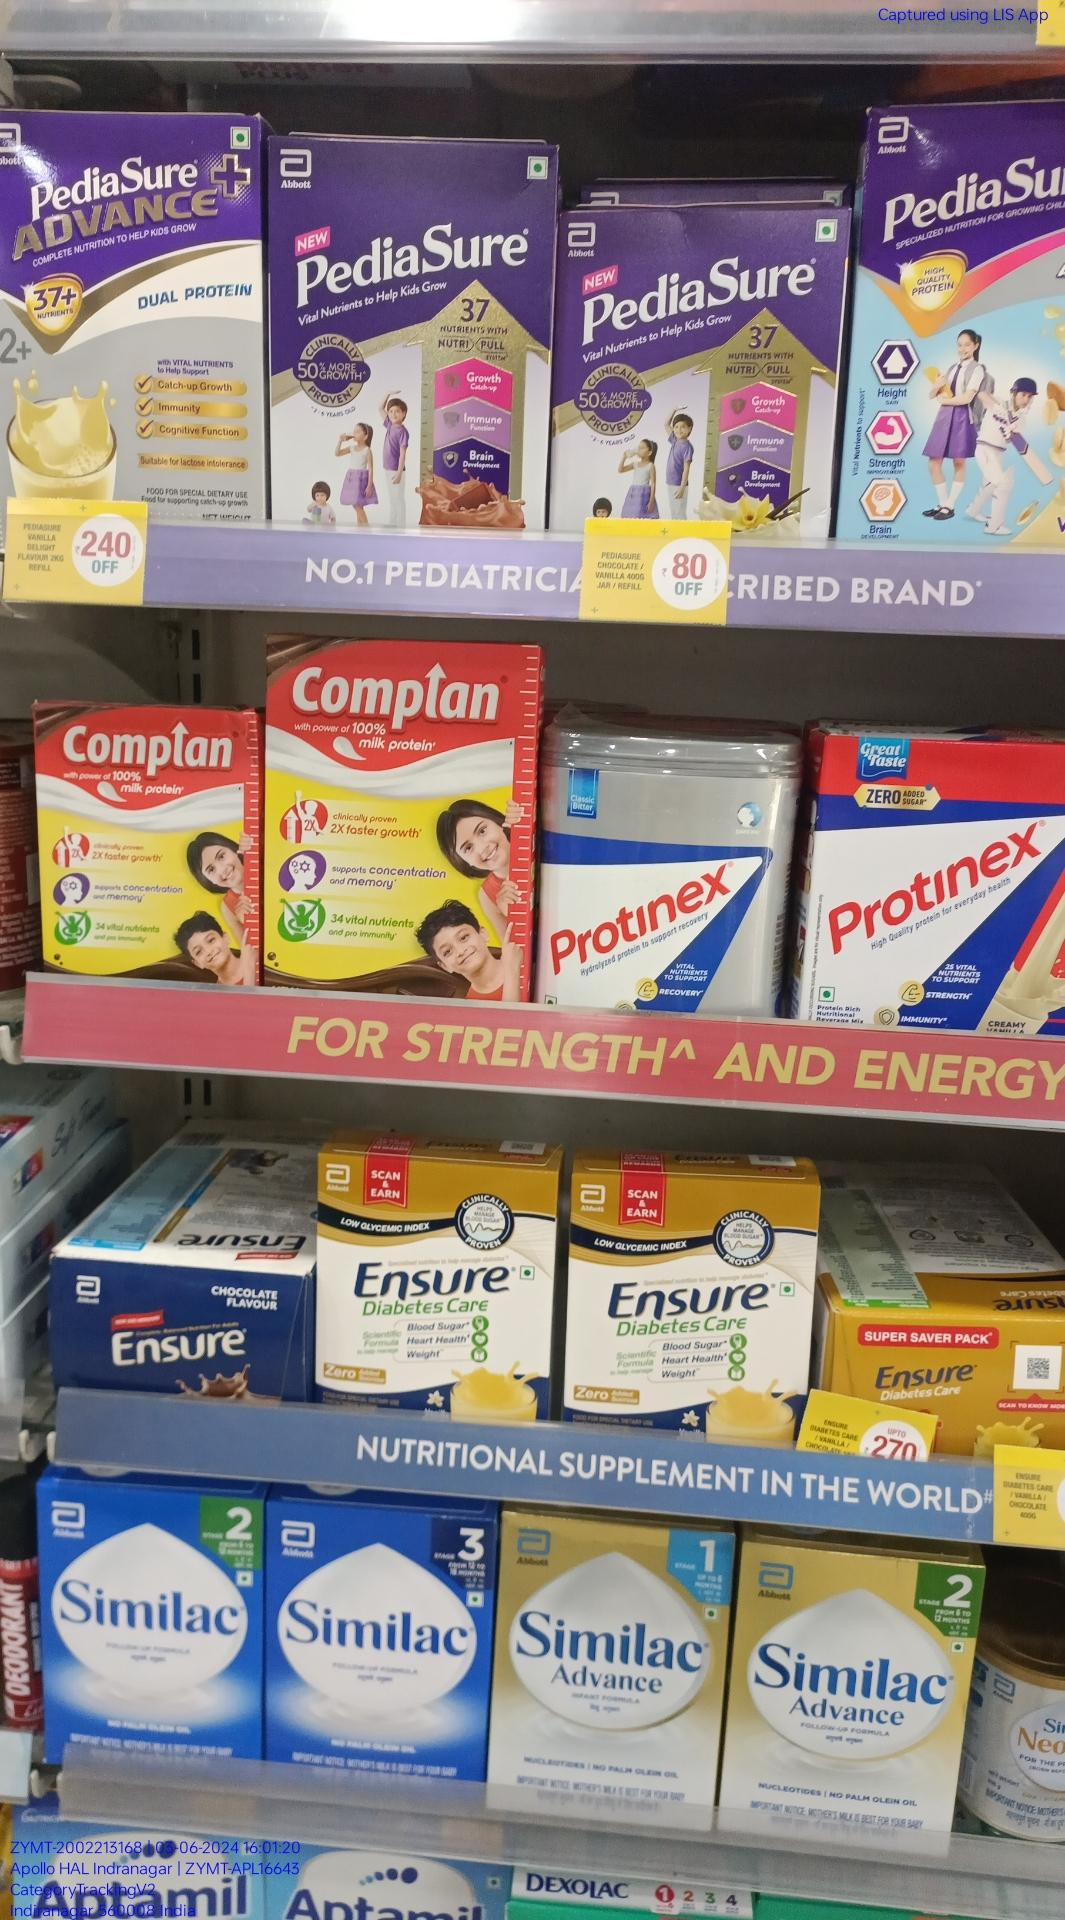COMPLAN_CHOCOLATE_200_GMS_PACK: (39, 713, 257, 974)
COMPLAN_CHOCOLATE_500_GMS_PACK: (264, 640, 535, 1002)
PEDIASURE_CHOCOLATE_500_G_PACK: (270, 144, 553, 536)
PEDIASURE_VANILLA_500_G_PACK: (557, 209, 834, 547)
PROTINEX_ORIGINAL_400_G_JAR: (543, 733, 774, 1027)
